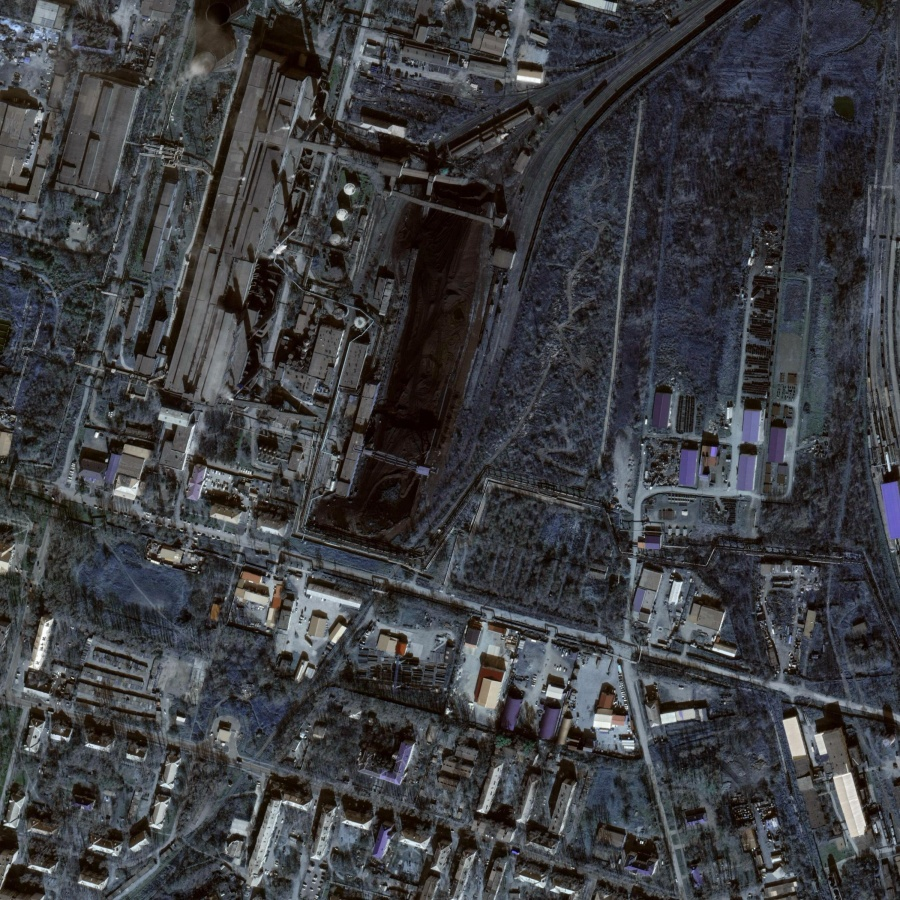PowerPlant: (213, 105, 518, 539)
